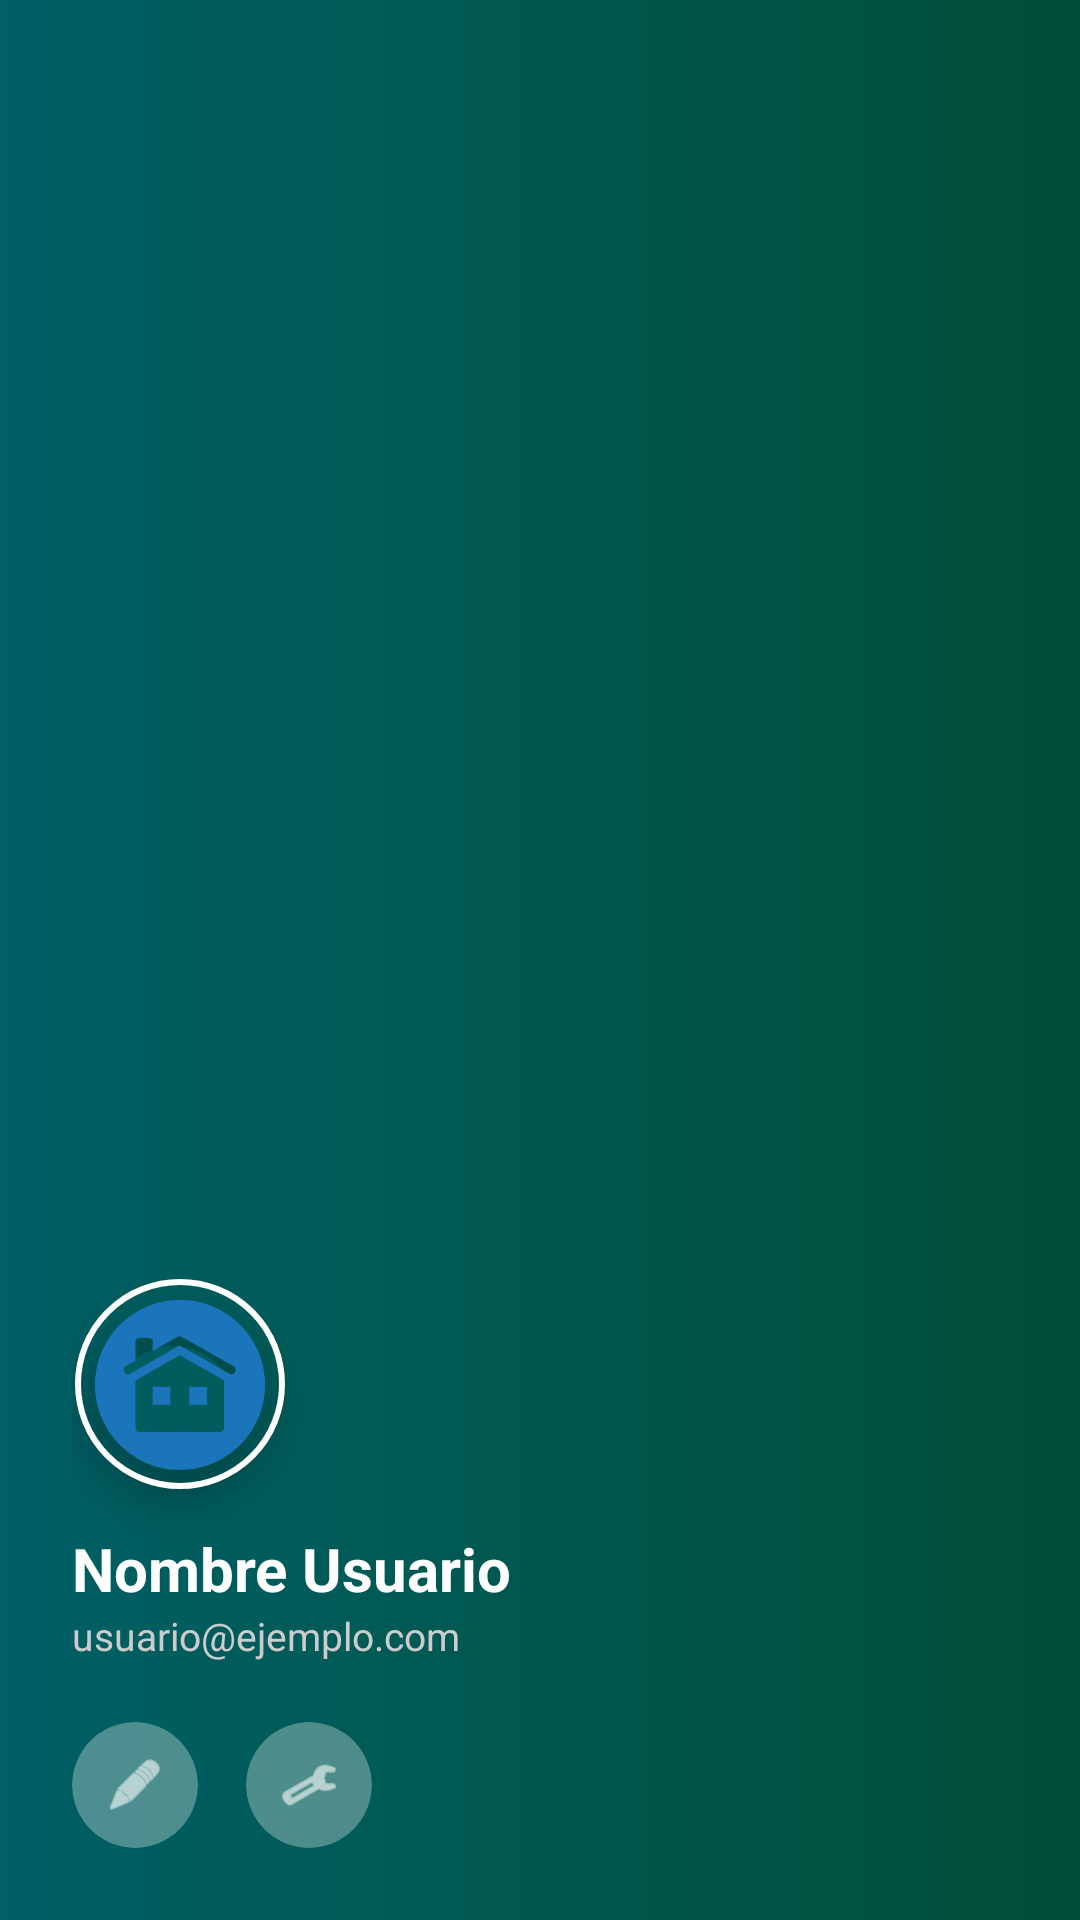

Icons on this 1080 × 1920 Android screen, each with the point to tap as point (x, y):
edit: point (134, 1784)
house: point (180, 1384)
preferences: point (309, 1785)
